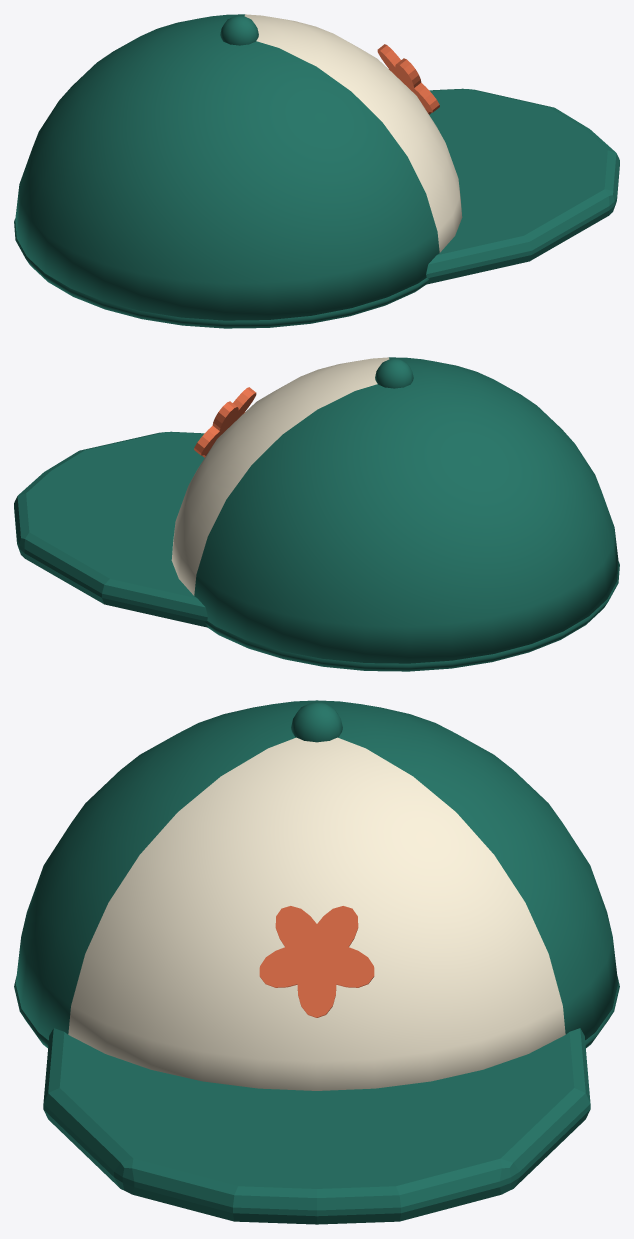
File: trucker_hat.glb
The picture shows the model from 3 angles, top to bottom: view 1: azimuth 30°, elevation 25°; view 2: azimuth 150°, elevation 25°; view 3: azimuth 270°, elevation 25°; orthographic projection. The views are drawn at different scales.
Visible parts, largest first — view 1: trucker_hat; view 2: trucker_hat; view 3: trucker_hat.
Part boxes in pixels (x1,y1,x2,y2): trucker_hat: (14, 14, 619, 328); trucker_hat: (14, 357, 619, 671); trucker_hat: (14, 700, 619, 1224).
Size of the model in its own units: 1.21 by 0.4645 by 0.864.
